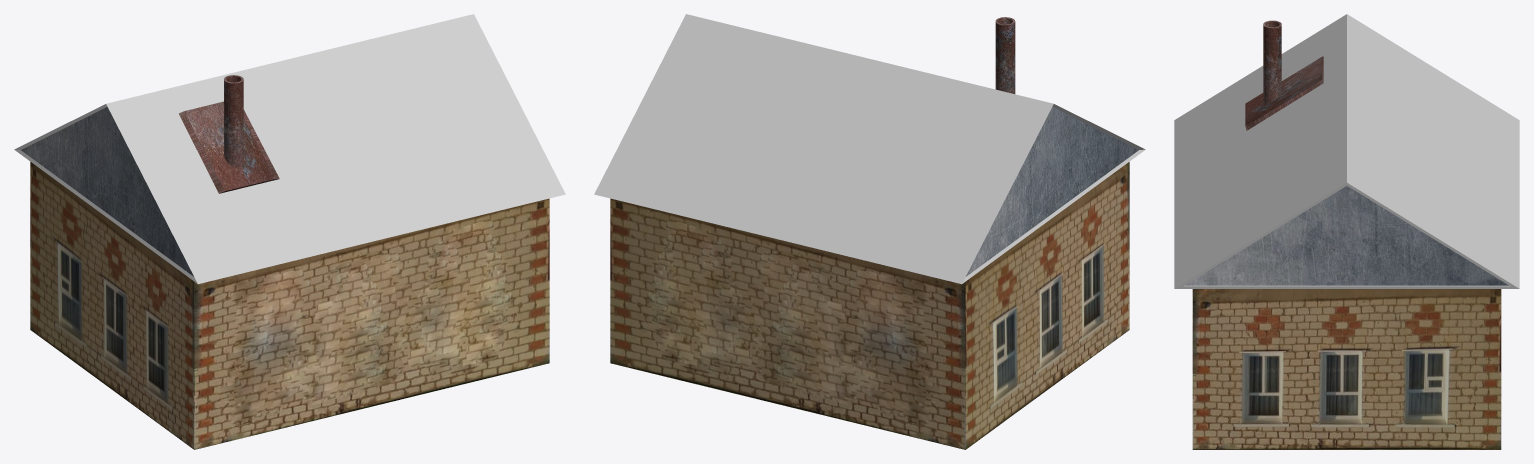
The model's file is House.fbx.
The picture shows the model from 3 angles, left to right: view 1: azimuth 30°, elevation 25°; view 2: azimuth 150°, elevation 25°; view 3: azimuth 270°, elevation 25°; orthographic projection. The views are drawn at different scales.
Visible parts, largest first — view 1: Крыша; view 2: Крыша; view 3: Крыша.
Boxes of the visible parts, x1,y1,x2,y2 form: Крыша: (14,14,565,449); Крыша: (594,14,1145,449); Крыша: (1174,14,1519,449).
Size of the model in its own units: 1035 by 859 by 896.
